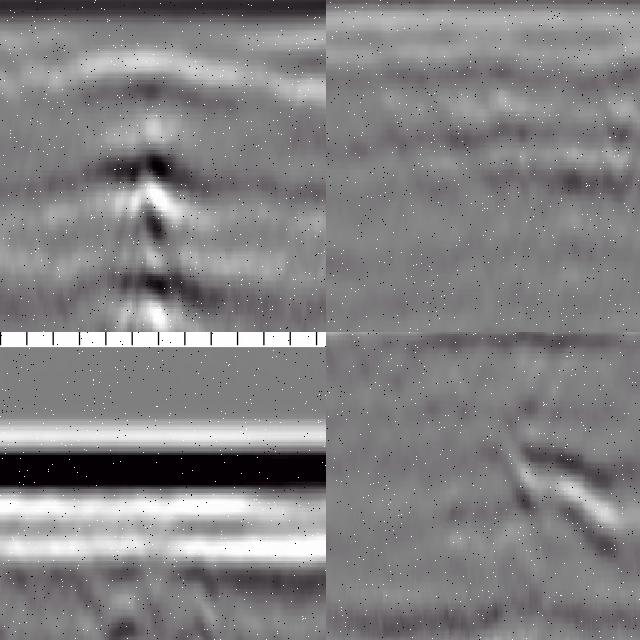loose: (392, 59, 640, 197), (93, 56, 211, 333), (77, 522, 235, 640), (514, 432, 640, 555)
